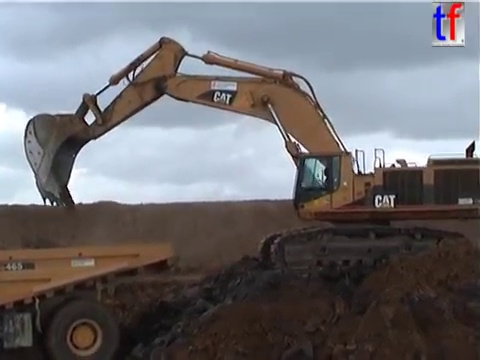excavator: (20, 33, 479, 283)
truck: (1, 237, 180, 360)
